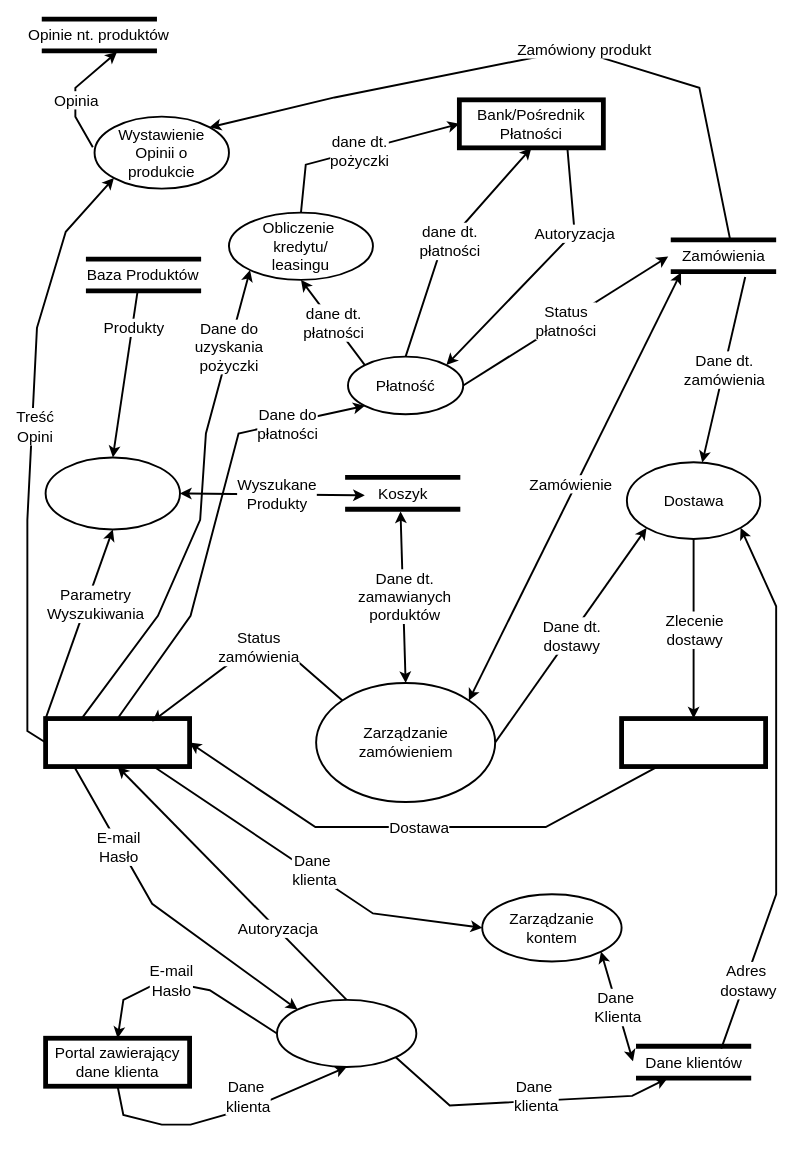
This 802x1150 diagram has some shape labels left out. The shapes that lost their labels are listed below. From the top down, each one's centre as x and y in pixels, then its label:
the point at 112,493: Wyszukiwanie produktów
the point at 117,742: Klient
the point at 693,742: Dostawca
the point at 346,1033: Logowanie / Rejestracja
